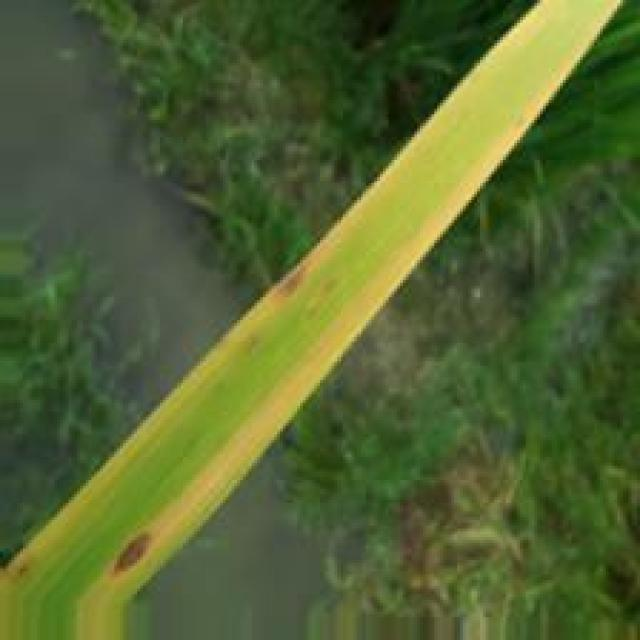Brown_Spot: (110, 524, 163, 581), (272, 263, 314, 303), (4, 550, 42, 585)
